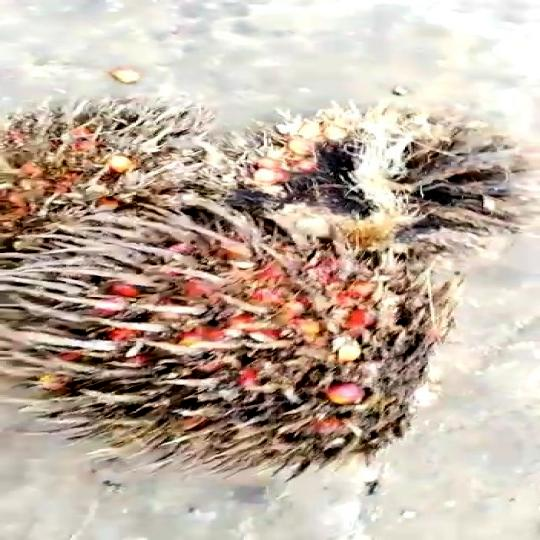terlalu masak: (0, 214, 447, 480)
